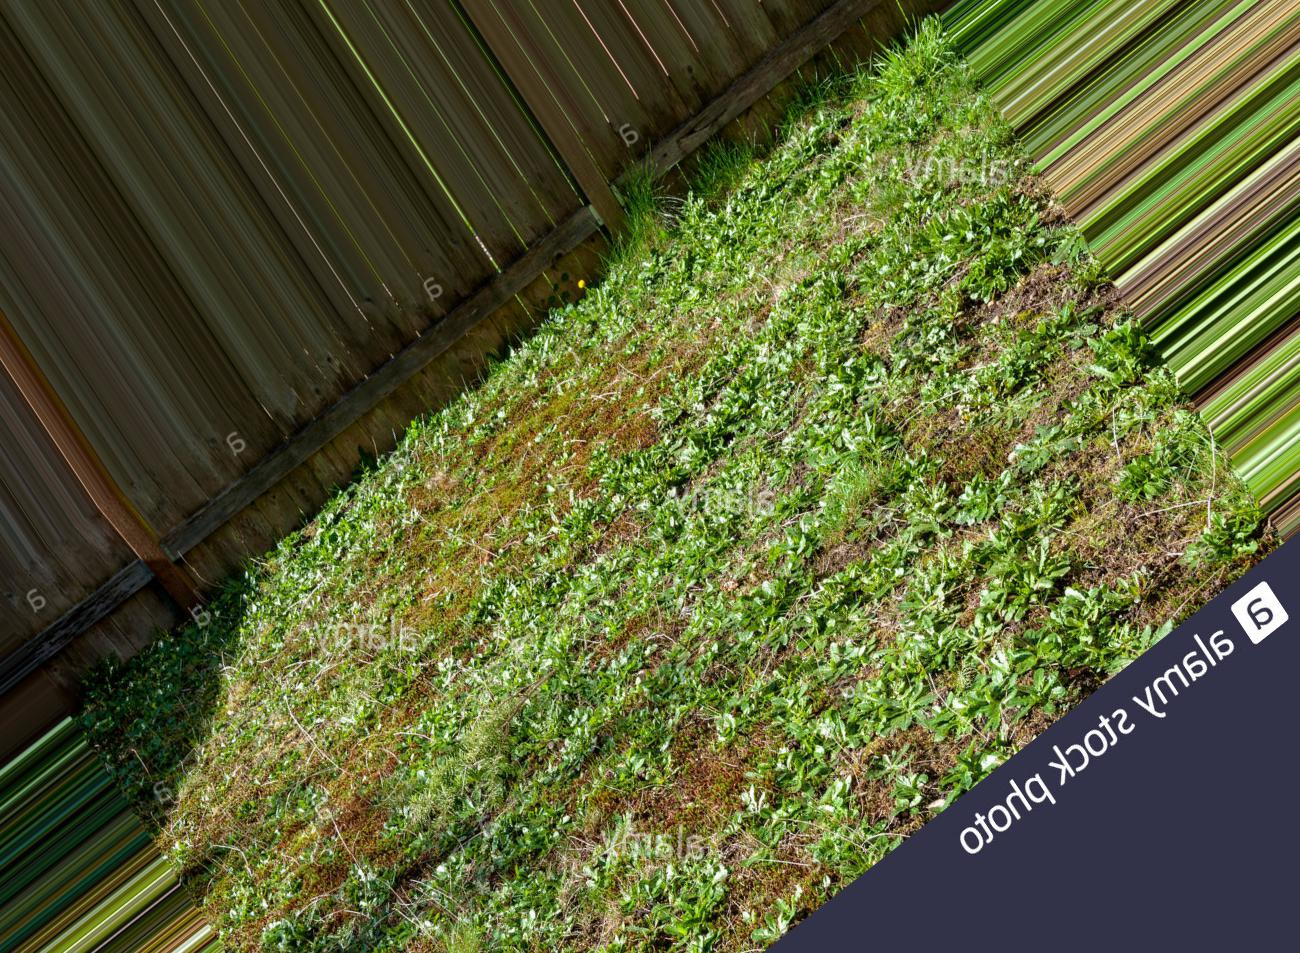patch: (368, 455, 547, 605), (565, 376, 659, 448), (641, 741, 733, 805), (925, 429, 1015, 487), (325, 788, 367, 841)
